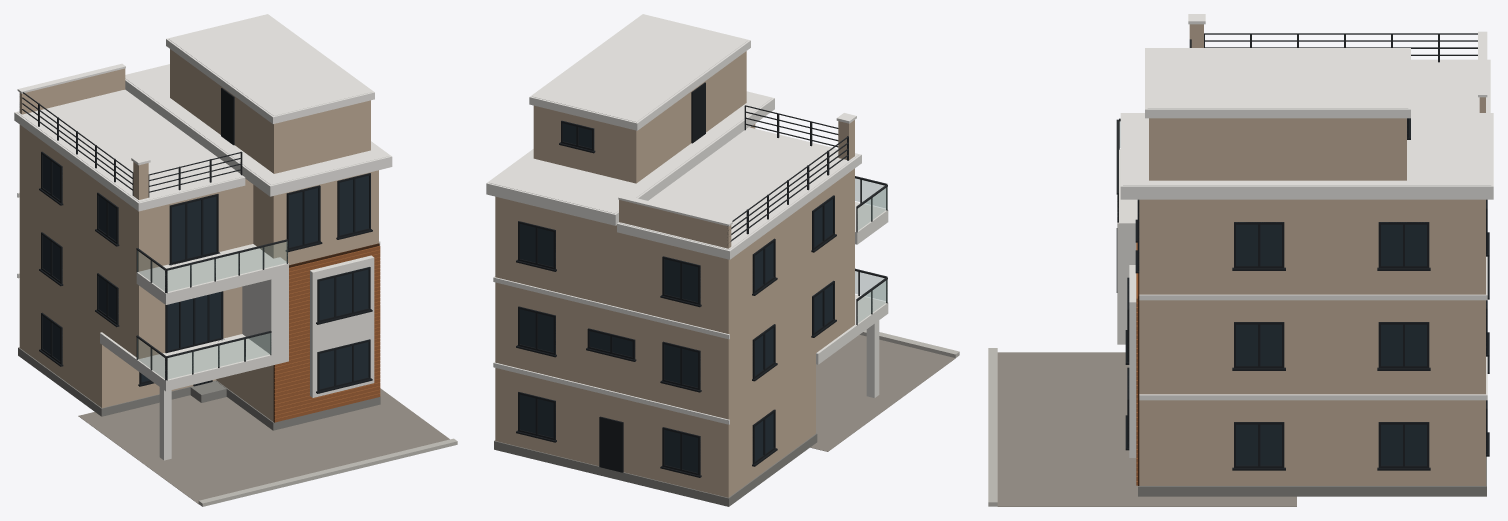
The model's file is house.glb.
3 views of the same model, side by side, from view 1: azimuth 30°, elevation 25°; view 2: azimuth 150°, elevation 25°; view 3: azimuth 270°, elevation 25° (orthographic). The views are drawn at different scales.
Parts seen in each view (by area): view 1: main_surface, fixed_roof, fixed_paving, columns, fixed_glass, roof_edge, doors_windows, fixed_wood, fixed_railing_glass, fixed_metal, fixed_plinth, fixed_kerb; view 2: main_surface, fixed_roof, roof_edge, fixed_glass, doors_windows, fixed_paving, columns, fixed_plinth, fixed_metal, fixed_railing_glass, fixed_kerb; view 3: main_surface, fixed_roof, fixed_paving, roof_edge, fixed_glass, doors_windows, fixed_plinth, columns, fixed_metal, fixed_kerb.
Part boxes in pixels (x1=…): main_surface: x1=19, y1=49, x2=378, y2=421; fixed_roof: x1=17, y1=15, x2=388, y2=202; fixed_paving: x1=78, y1=388, x2=449, y2=503; columns: x1=100, y1=244, x2=374, y2=460; fixed_glass: x1=42, y1=152, x2=369, y2=388; roof_edge: x1=14, y1=14, x2=392, y2=278; doors_windows: x1=39, y1=88, x2=372, y2=393; fixed_wood: x1=274, y1=246, x2=380, y2=422; fixed_railing_glass: x1=137, y1=241, x2=287, y2=378; fixed_metal: x1=19, y1=92, x2=288, y2=380; fixed_plinth: x1=18, y1=347, x2=380, y2=430; fixed_kerb: x1=198, y1=438, x2=457, y2=506; main_surface: x1=495, y1=51, x2=854, y2=497; fixed_roof: x1=489, y1=15, x2=858, y2=249; roof_edge: x1=486, y1=14, x2=861, y2=424; fixed_glass: x1=520, y1=122, x2=833, y2=472; doors_windows: x1=516, y1=82, x2=836, y2=477; fixed_paving: x1=810, y1=334, x2=955, y2=451; columns: x1=816, y1=202, x2=888, y2=397; fixed_plinth: x1=494, y1=433, x2=817, y2=506; fixed_metal: x1=727, y1=105, x2=887, y2=325; fixed_railing_glass: x1=855, y1=178, x2=887, y2=322; fixed_kerb: x1=860, y1=329, x2=959, y2=357; main_surface: x1=1139, y1=24, x2=1485, y2=485; fixed_roof: x1=1123, y1=48, x2=1491, y2=185; fixed_paving: x1=997, y1=352, x2=1296, y2=506; roof_edge: x1=1120, y1=14, x2=1493, y2=400; fixed_glass: x1=1128, y1=118, x2=1486, y2=465; doors_windows: x1=1125, y1=118, x2=1489, y2=470; fixed_plinth: x1=1138, y1=456, x2=1486, y2=496; columns: x1=1117, y1=149, x2=1137, y2=457; fixed_metal: x1=1116, y1=33, x2=1477, y2=292; fixed_kerb: x1=988, y1=348, x2=997, y2=506.
Size of what is drawn, in the model's own units: 11.6 by 13.52 by 16.05.
